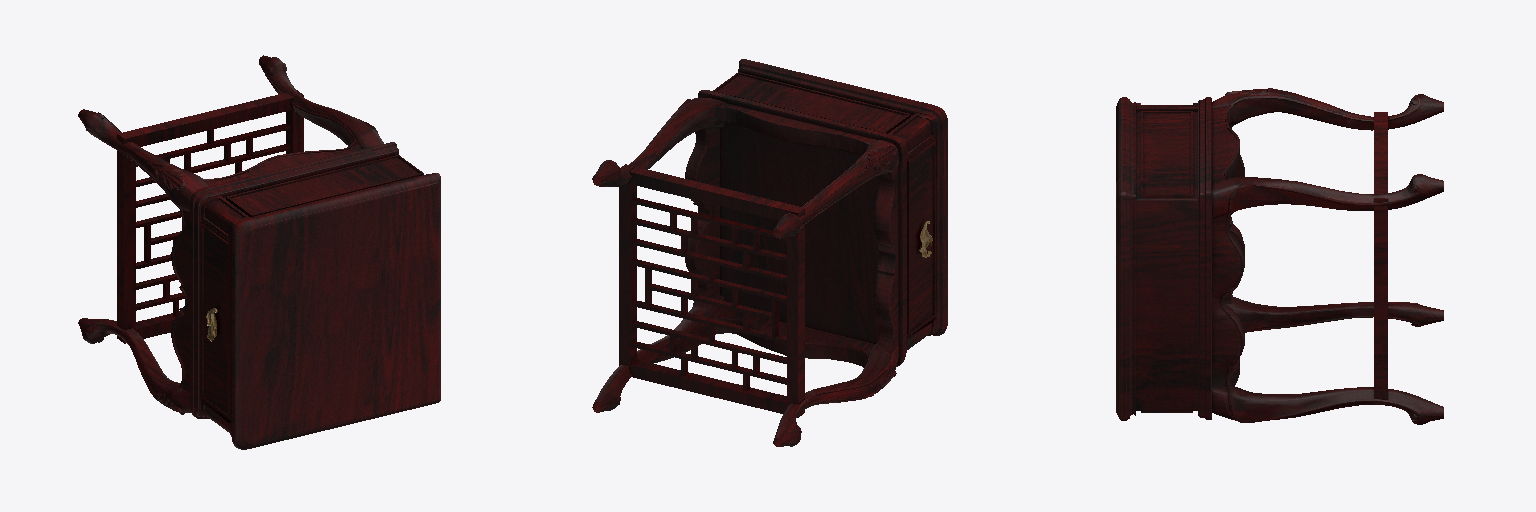
3 views of the same model, side by side, from view 1: azimuth 30°, elevation 25°; view 2: azimuth 150°, elevation 25°; view 3: azimuth 270°, elevation 25° (orthographic).
Size of the model in its own units: 0.5198 by 0.5813 by 0.695.
1 materials, 1 textured.